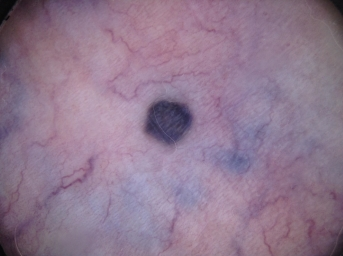melanoma: (144, 98, 194, 146)
